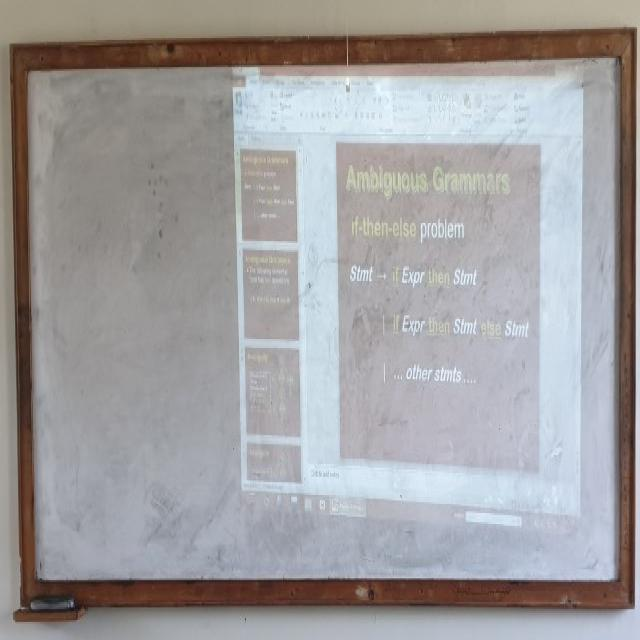Slide: (232, 55, 583, 534)
White-board: (19, 42, 629, 598)
